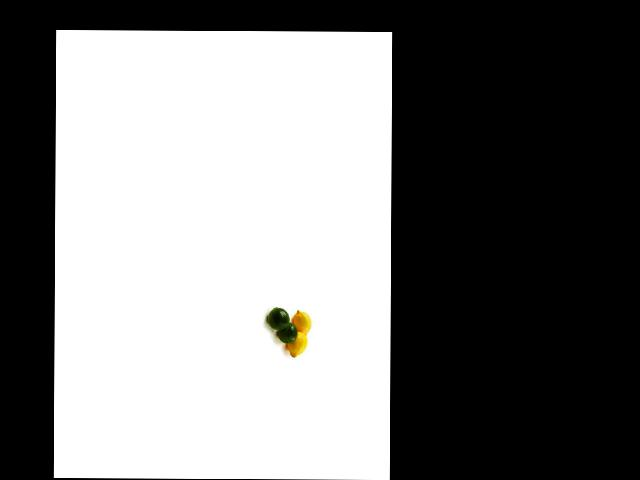lemon: (267, 304, 290, 330)
